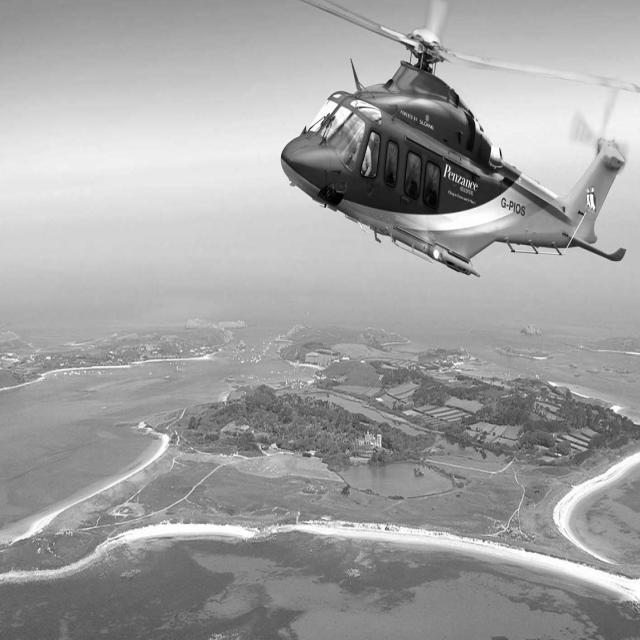helicopter: (270, 1, 640, 286)
